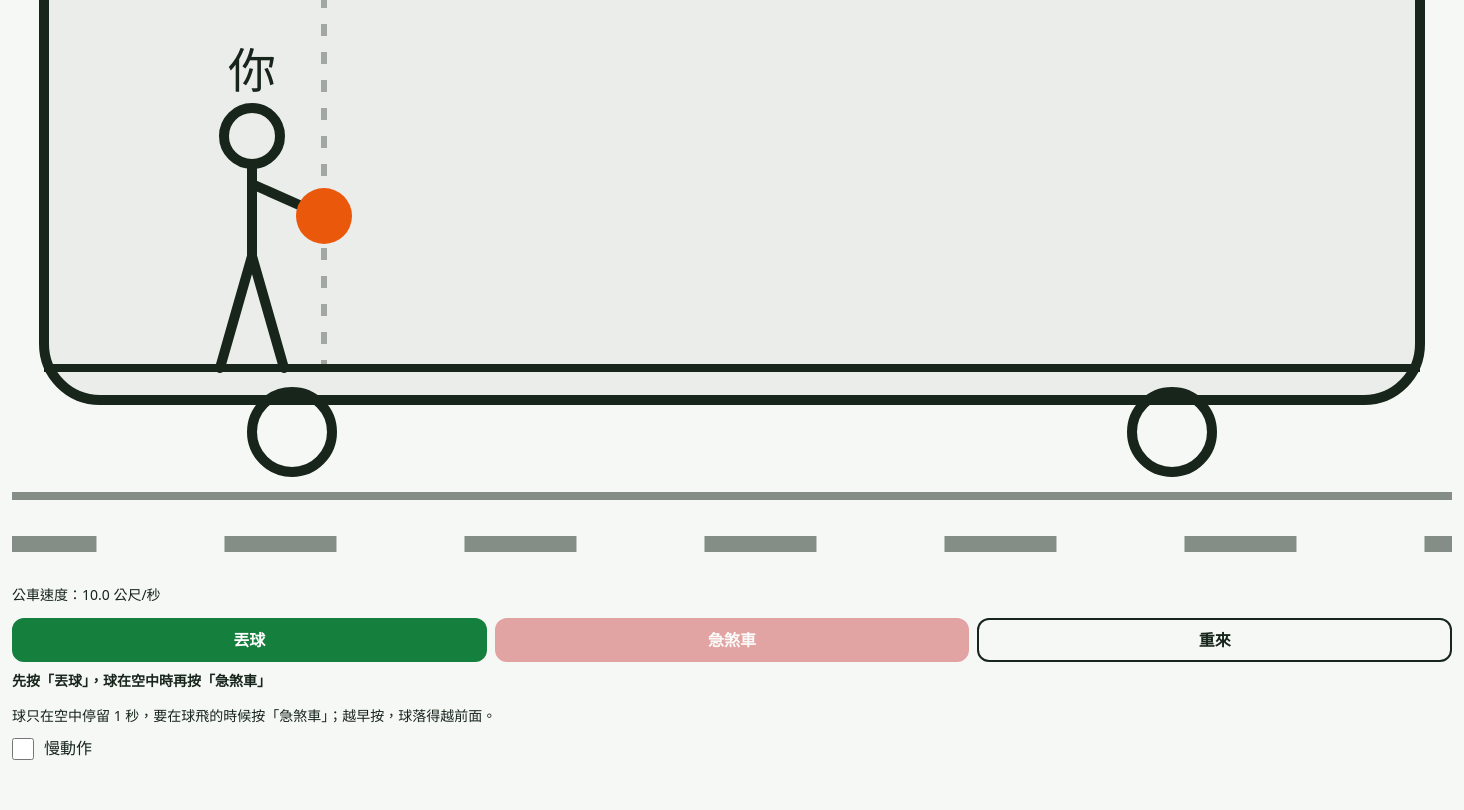
Test: 有動畫（假的計時器） › 丟球之前「急煞車」不能按，旁邊有提示；按了沒反應，公車照樣前進，之後丟球落在手上
(page scrolled)
Expected: the text "先按「丟球」，球在空中時再按「急煞車」" is shown, [12,671,271,690]
Click the button "急煞車".
click(732, 640)  # box [495,618,969,662]
Wait 500 ms
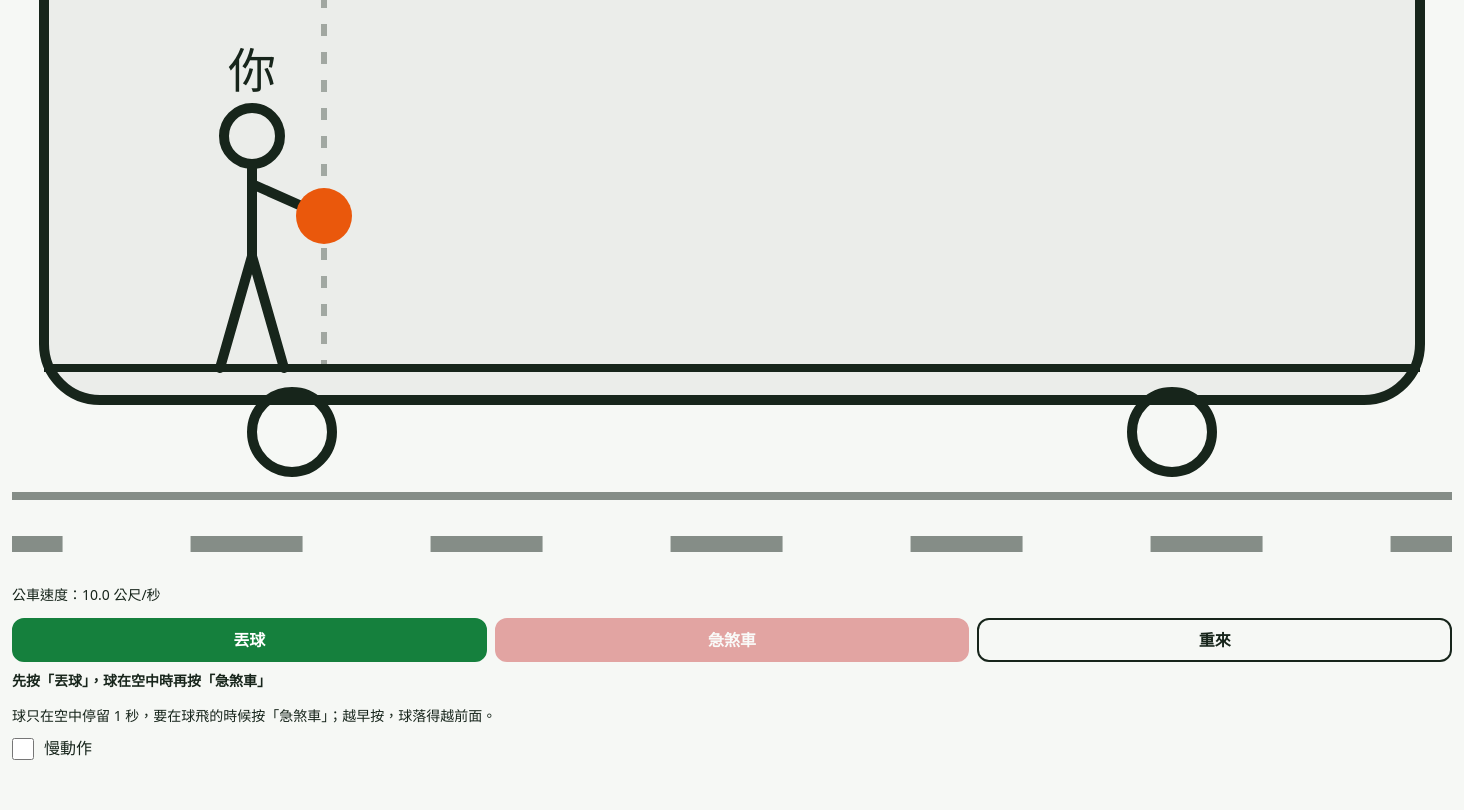
Expected: the text "公車速度：10.0 公尺/秒" is shown, [12,585,161,604]
Click the button "丟球".
click(249, 640)  # box [12,618,487,662]
Wait 1200 ms
(page scrolled)
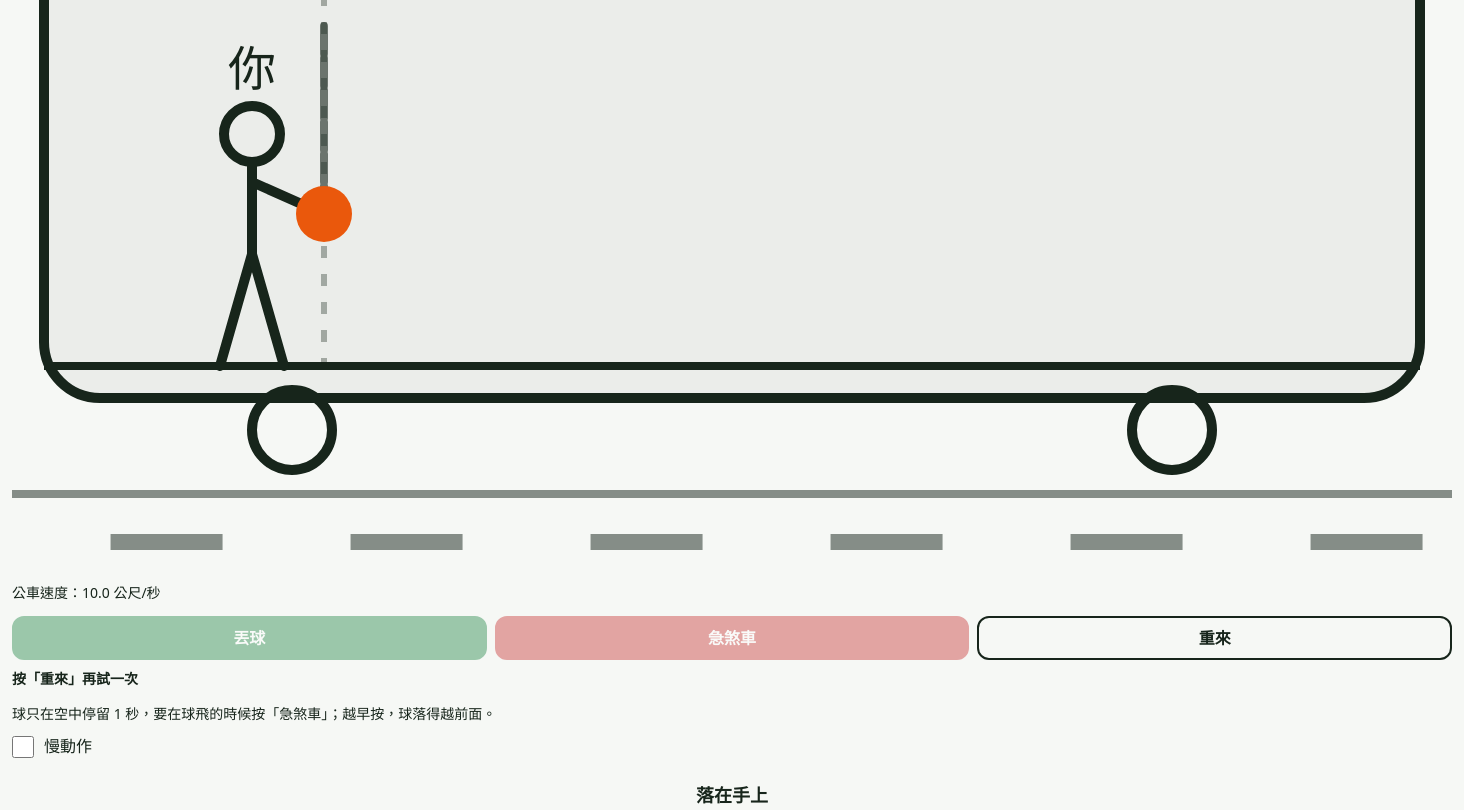
Expected: the message reads "落在手上", [696,783,768,807]
